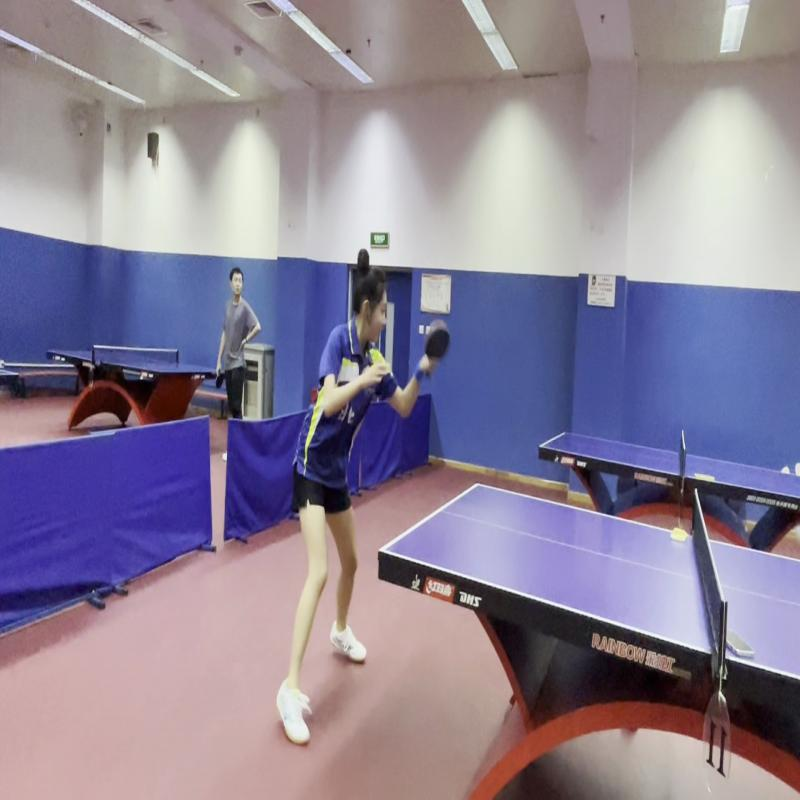bats: (418, 313, 452, 370)
